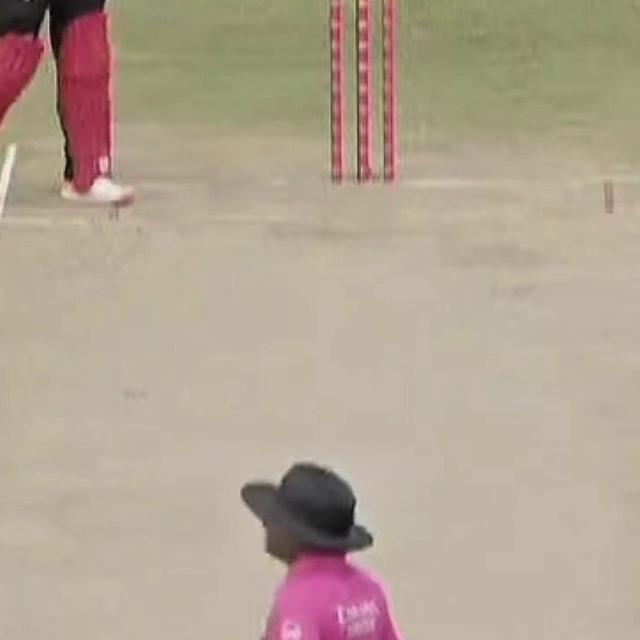umpire: (179, 445, 476, 640), (180, 455, 473, 640)
